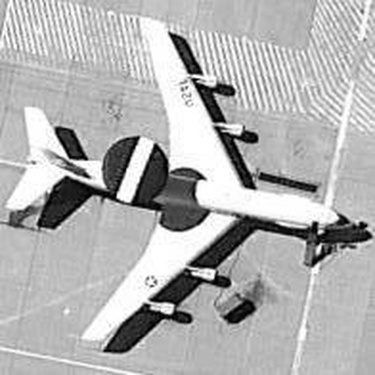airplane: (1, 7, 355, 362)
